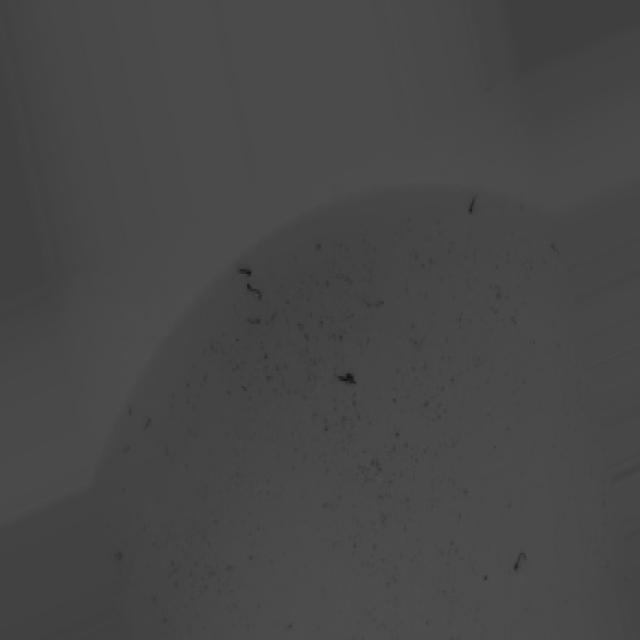larvas: (335, 369, 358, 385), (247, 280, 263, 301), (512, 548, 526, 572), (360, 298, 385, 310), (122, 440, 138, 456), (468, 194, 479, 216), (141, 414, 155, 430), (548, 242, 562, 254), (248, 318, 264, 328), (238, 267, 254, 276), (128, 400, 134, 416)
